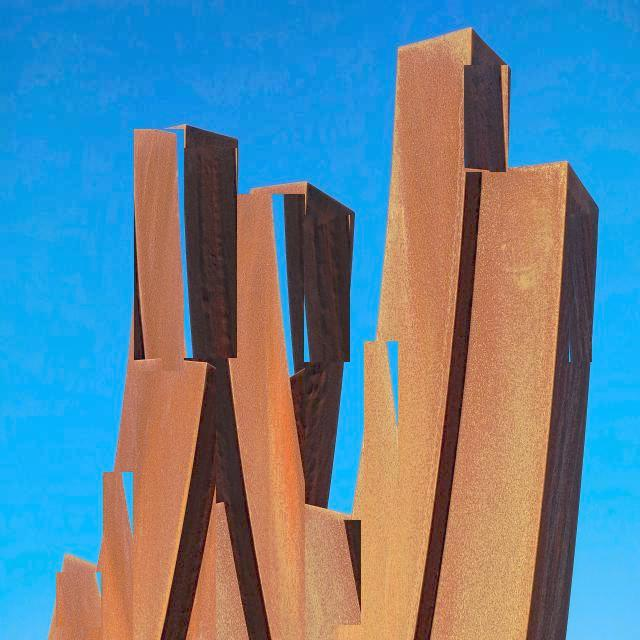Corrosion: (49, 28, 599, 640)
